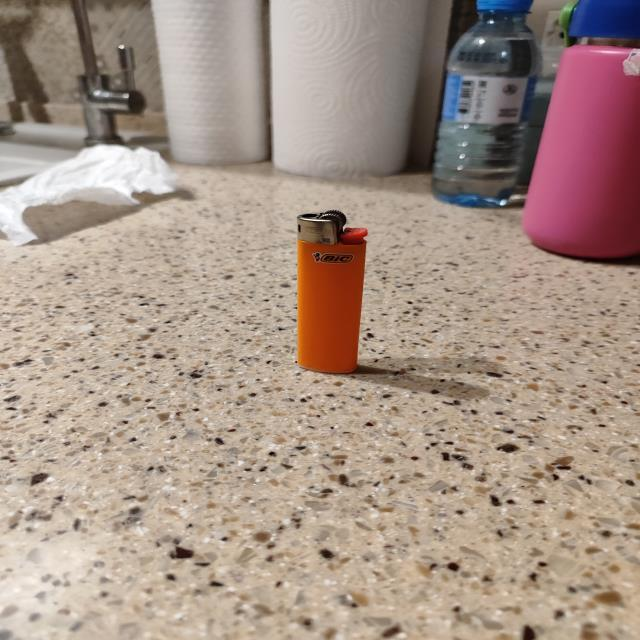lighter: (297, 210, 367, 372)
